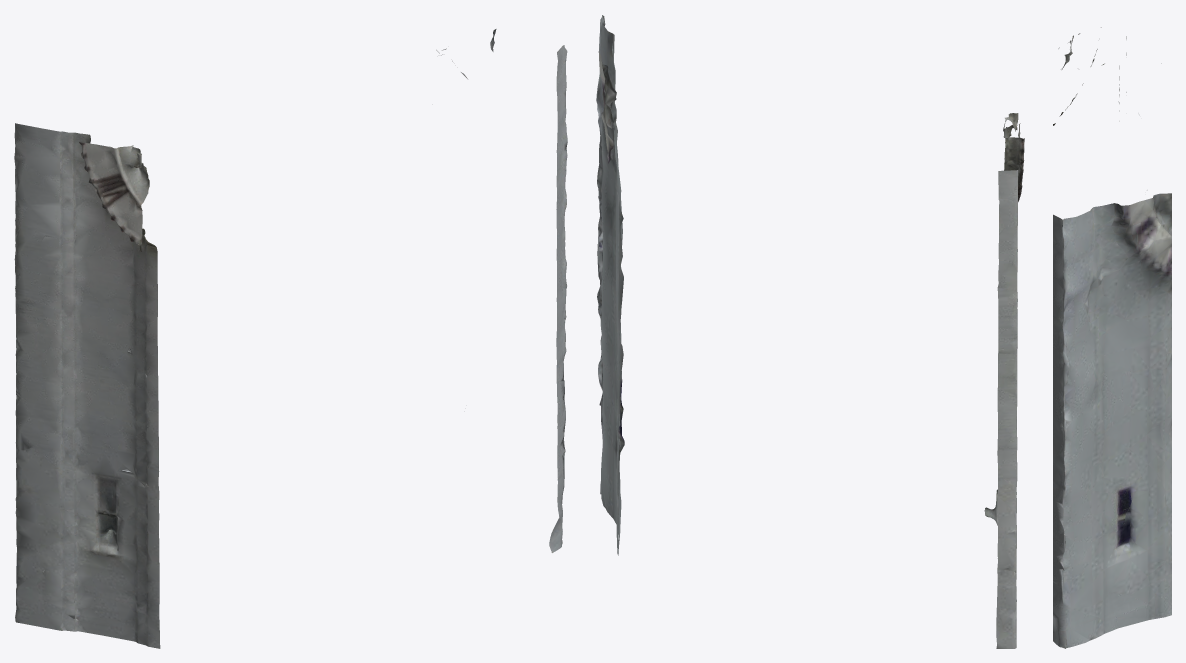
3 views of the same model, side by side, from view 1: azimuth 30°, elevation 25°; view 2: azimuth 150°, elevation 25°; view 3: azimuth 270°, elevation 25° (orthographic). The views are drawn at different scales.
Bounding box in the file's own units: 14.12 × 13.59 × 3.41.
1 material, 1 textured.
